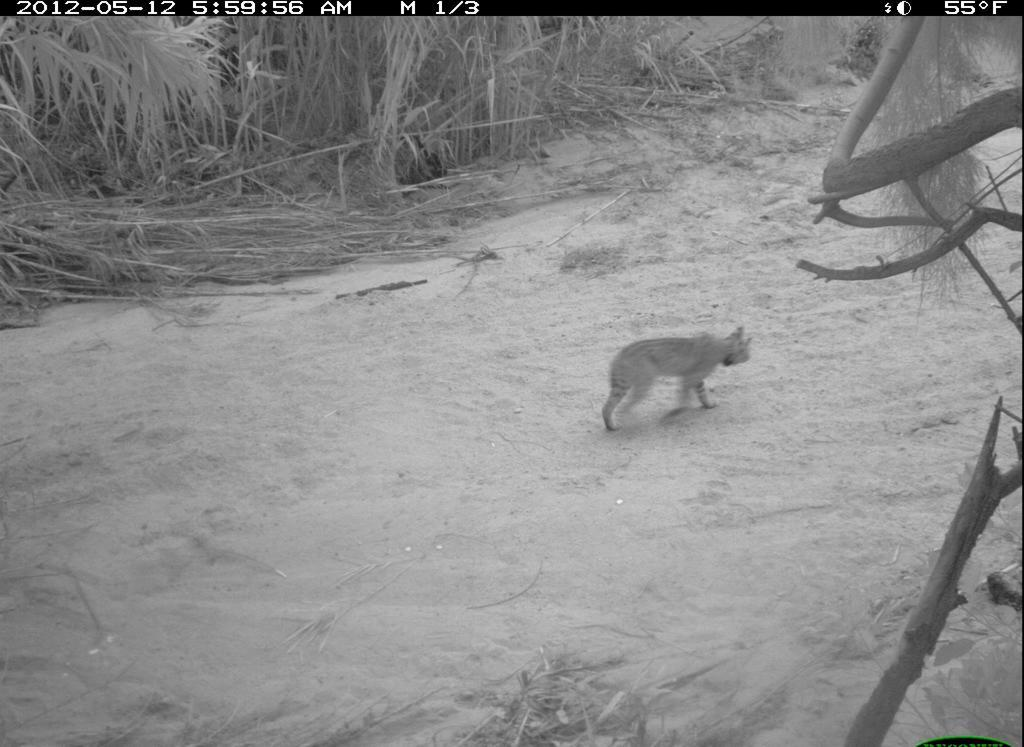bobcat: (596, 322, 762, 438)
